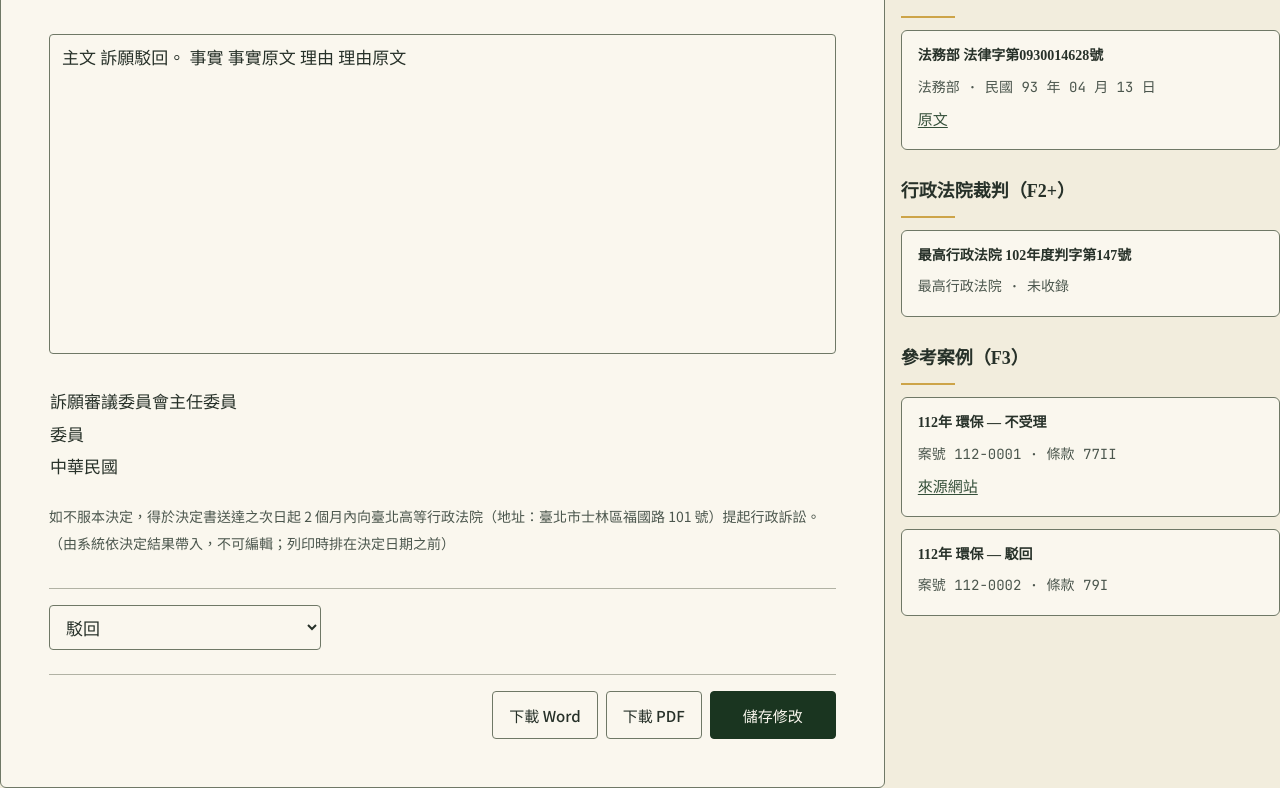
Test: 決定結果修改 › 儲存失敗時錯誤看得見,選單留著承辦人挑的值不回捲
The image size is (1280, 788).
(page scrolled)
Select "撤銷另處" in the dropdown named "結果" at (185, 628), box [49, 606, 321, 650]
(page scrolled)
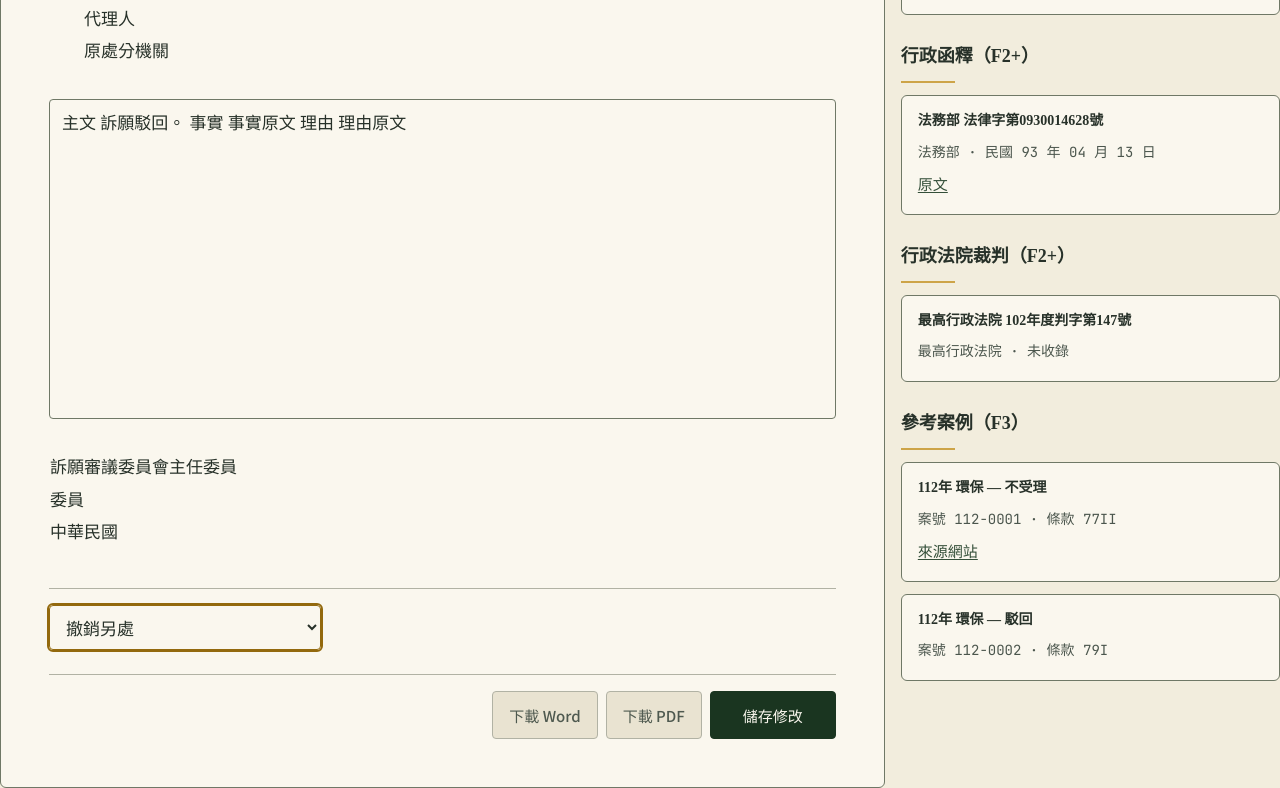
Click the button "儲存修改" at (773, 715), box [710, 691, 836, 739]
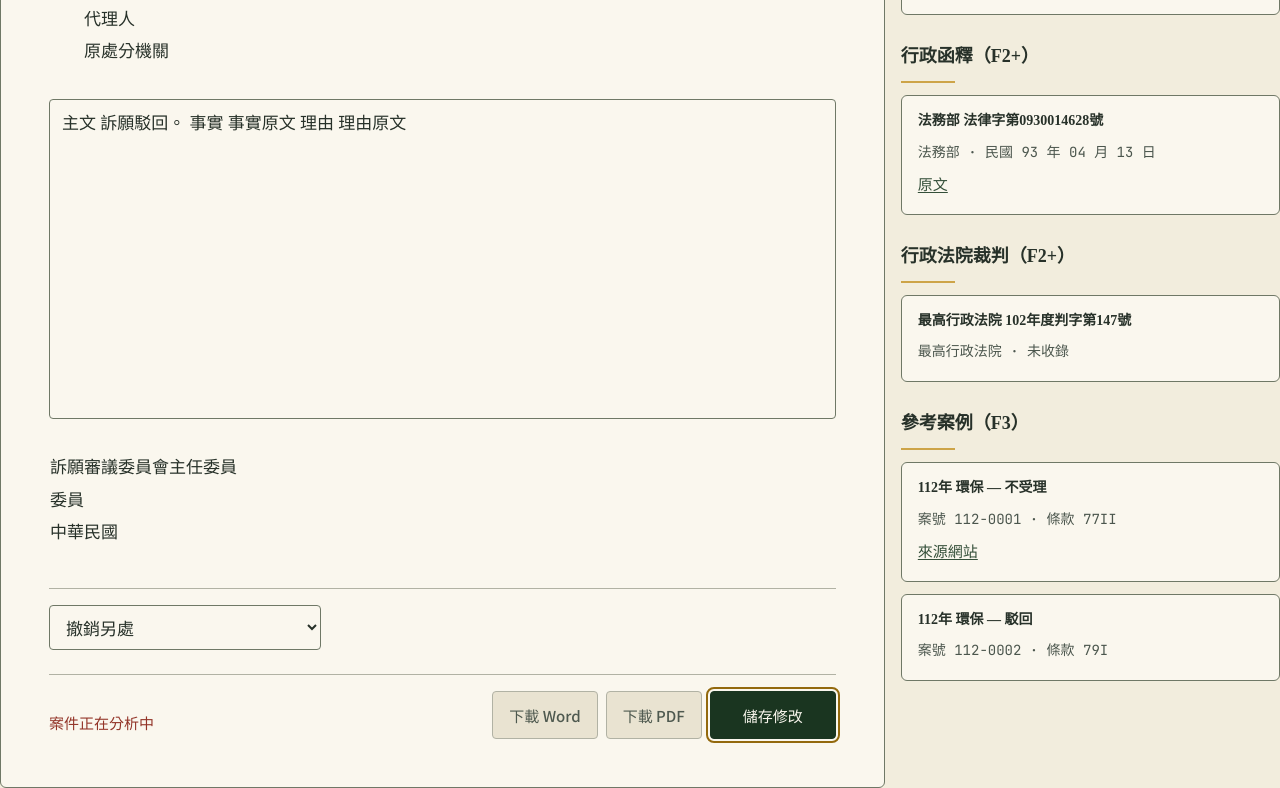
Check: the text "案件正在分析中" is shown, box [49, 709, 154, 738]
